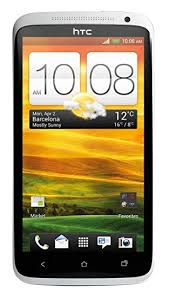htc: (8, 7, 156, 288)
